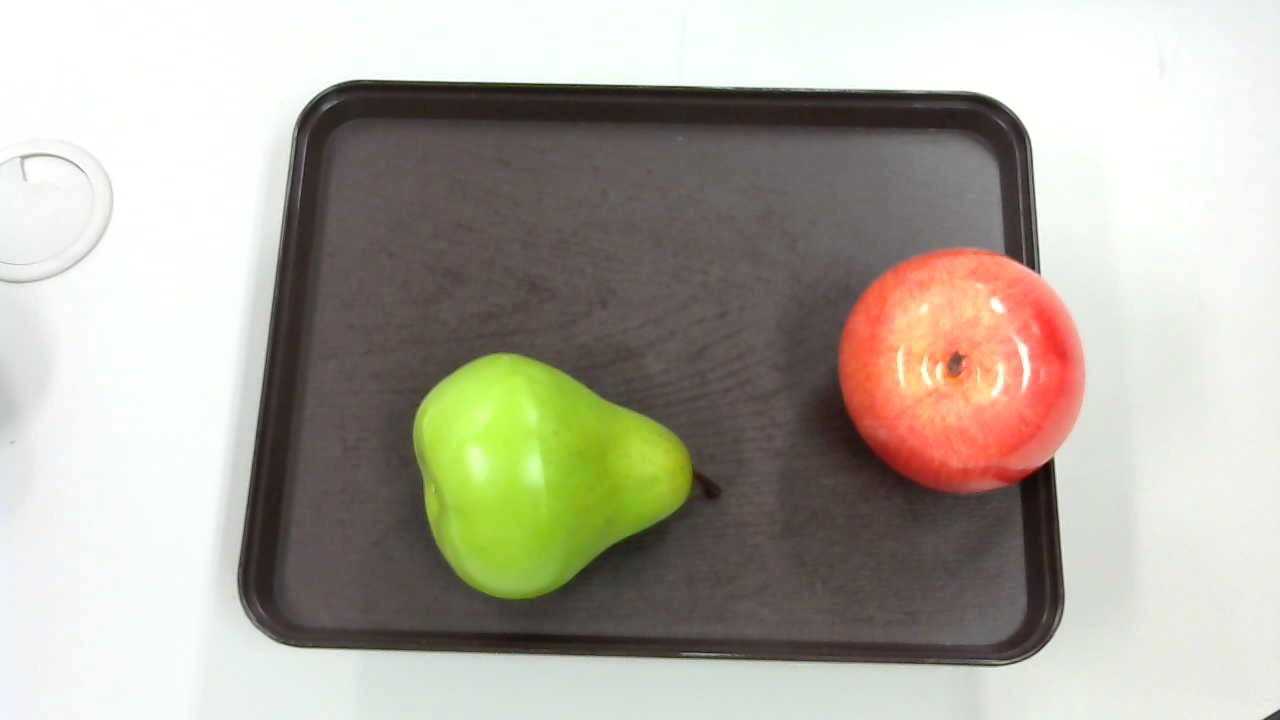green pear: (407, 346, 728, 612)
red apple: (831, 246, 1085, 495)
